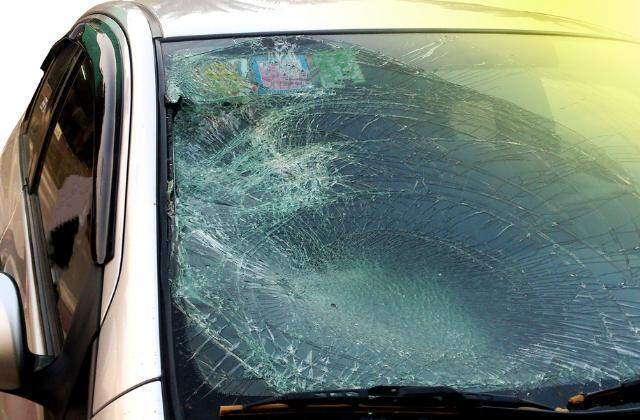Windshield: (164, 40, 640, 410)
